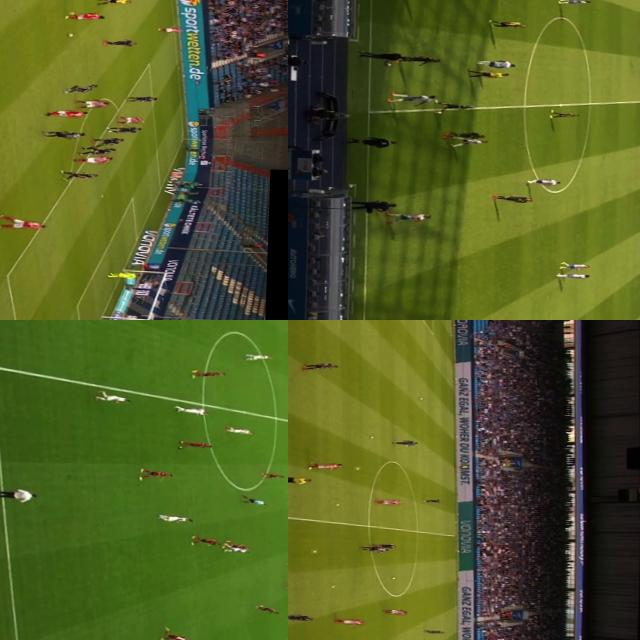ball: (64, 31, 76, 37), (381, 60, 393, 66), (353, 465, 361, 469), (313, 548, 319, 552), (392, 576, 397, 579), (330, 585, 336, 587), (334, 502, 340, 504), (370, 436, 376, 438), (418, 396, 424, 398)
player: (0, 214, 46, 230), (386, 210, 432, 224), (387, 92, 433, 104), (136, 466, 174, 480), (434, 100, 473, 113), (65, 8, 106, 20), (63, 81, 100, 94), (46, 107, 89, 118), (157, 627, 193, 640), (492, 192, 534, 203), (442, 130, 486, 140), (397, 54, 441, 64), (476, 57, 516, 68), (190, 368, 228, 379), (452, 136, 488, 147), (177, 438, 213, 449), (126, 92, 158, 104), (104, 36, 136, 48), (154, 513, 196, 522), (96, 391, 130, 402), (94, 135, 124, 147), (303, 360, 339, 370), (80, 97, 112, 108), (528, 176, 562, 186), (188, 535, 222, 545), (78, 145, 115, 154), (48, 128, 85, 137), (489, 20, 528, 28), (109, 270, 142, 279), (171, 406, 208, 414), (116, 115, 148, 124), (555, 270, 591, 278), (76, 154, 110, 162), (242, 352, 274, 360), (62, 171, 98, 178), (157, 24, 185, 33), (224, 540, 252, 549), (306, 461, 342, 468), (559, 261, 590, 269), (110, 125, 140, 133), (548, 110, 578, 118), (226, 426, 256, 434), (392, 438, 418, 446), (334, 617, 363, 624), (222, 545, 250, 552), (256, 604, 280, 612), (375, 497, 400, 504), (288, 612, 312, 619), (262, 472, 286, 478), (386, 608, 406, 614), (373, 543, 395, 548), (426, 628, 446, 633), (557, 0, 589, 3), (362, 546, 386, 550), (424, 498, 442, 503)
